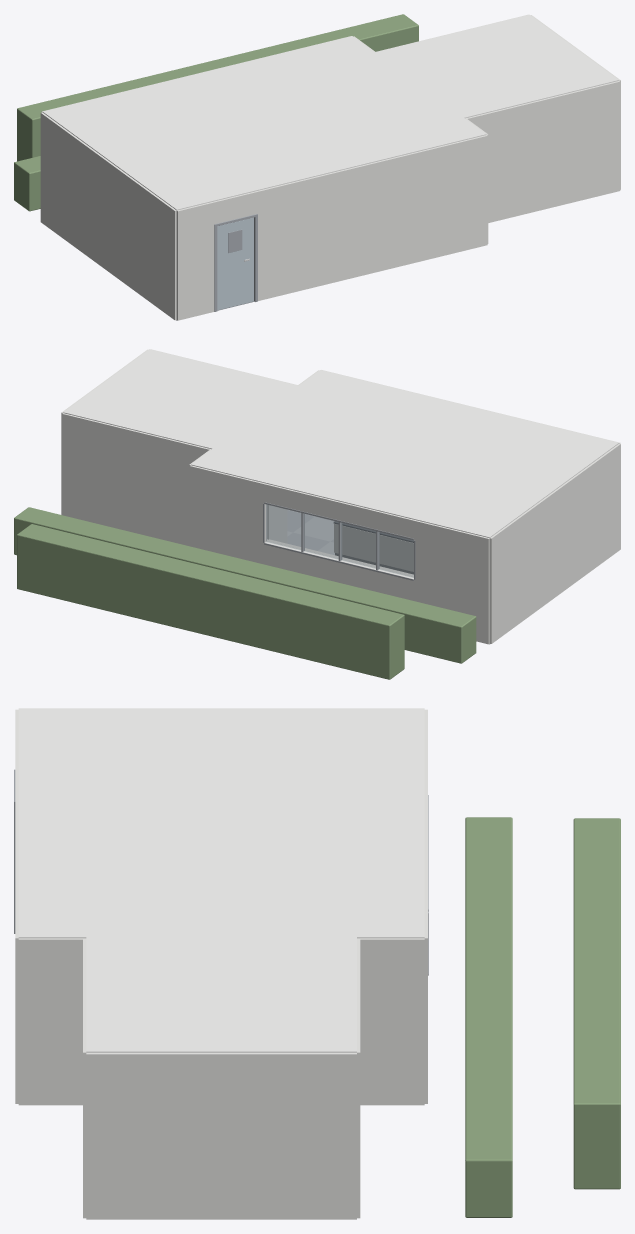
Rendered from lab.glb.
3 views of the same model, one above another, from view 1: azimuth 30°, elevation 25°; view 2: azimuth 150°, elevation 25°; view 3: azimuth 270°, elevation 25° (orthographic). The views are drawn at different scales.
Parts seen in each view (by area): view 1: slab_main, wall_main_south_b, wall_main_west, wall_prep_south, slab_prep, ext_hedge2, wall_main_south_a, door_entrance, ext_hedge, wall_main_south_lintel; view 2: slab_main, ext_hedge2, wall_main_west, wall_prep_north, slab_prep, ext_hedge, wall_main_north_a, wall_main_north_b, wall_main_north_sill, wall_main_north_header, bench_island_carcase, window_pane_0 (+5 smaller); view 3: slab_main, wall_prep_east, slab_prep, ext_hedge, ext_hedge2, wall_main_east_south, wall_main_east_north, wall_main_south_b, wall_prep_north, wall_prep_south, wall_main_north_b.
Part boxes in pixels (x1,y1,x2,y2): slab_main: (43, 36, 486, 210); wall_main_south_b: (254, 135, 487, 300); wall_main_west: (40, 112, 176, 320); wall_prep_south: (466, 81, 620, 222); slab_prep: (375, 14, 618, 118); ext_hedge2: (17, 14, 418, 161); wall_main_south_a: (176, 201, 216, 320); door_entrance: (217, 217, 253, 310); ext_hedge: (14, 156, 40, 211); wall_main_south_lintel: (216, 192, 255, 223); slab_main: (191, 370, 618, 537); ext_hedge2: (17, 524, 404, 679); wall_main_west: (489, 443, 620, 643); wall_prep_north: (62, 413, 210, 545); slab_prep: (63, 349, 298, 449); ext_hedge: (14, 507, 476, 663); wall_main_north_a: (414, 520, 489, 644); wall_main_north_b: (190, 465, 266, 564); wall_main_north_sill: (264, 541, 413, 600); wall_main_north_header: (264, 483, 414, 538); bench_island_carcase: (334, 523, 413, 571); window_pane_0: (378, 532, 413, 577); slab_main: (18, 708, 424, 938); wall_prep_east: (86, 1052, 356, 1219); slab_prep: (86, 937, 356, 1052); ext_hedge: (465, 817, 512, 1217); ext_hedge2: (573, 818, 620, 1189); wall_main_east_south: (18, 938, 86, 1105); wall_main_east_north: (357, 938, 424, 1105); wall_main_south_b: (15, 766, 18, 1103); wall_prep_north: (357, 938, 360, 1218); wall_prep_south: (83, 938, 86, 1218); wall_main_north_b: (424, 881, 427, 1103).
Bounding box in the file's own units: 12.1 × 2.74 × 8.97.
